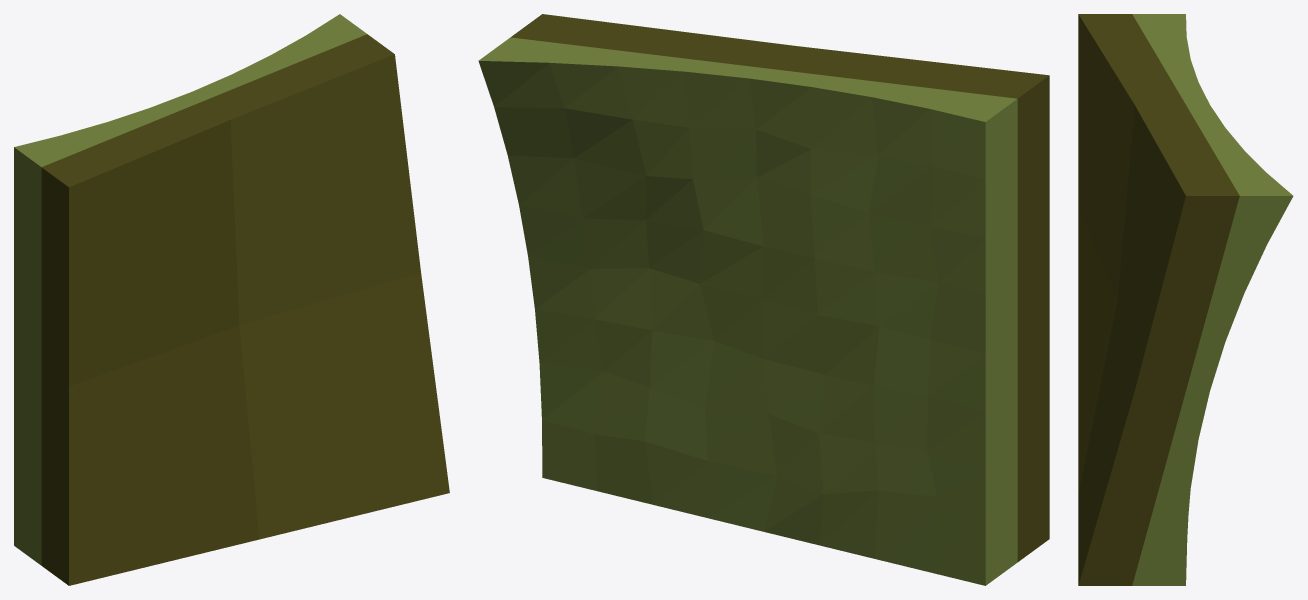
File: Slope_Bottom_Up_Corner.fbx
3 views of the same model, side by side, from view 1: azimuth 30°, elevation 25°; view 2: azimuth 150°, elevation 25°; view 3: azimuth 270°, elevation 25° (orthographic). The views are drawn at different scales.
Visible parts, largest first — view 1: Slope_Bottom_Up_Corner; view 2: Slope_Bottom_Up_Corner; view 3: Slope_Bottom_Up_Corner.
Boxes of the visible parts, bbox=[...] form: Slope_Bottom_Up_Corner: bbox=[14, 14, 449, 585]; Slope_Bottom_Up_Corner: bbox=[478, 14, 1049, 585]; Slope_Bottom_Up_Corner: bbox=[1078, 14, 1293, 585].
Bounding box in the file's own units: 400 × 400 × 200.
